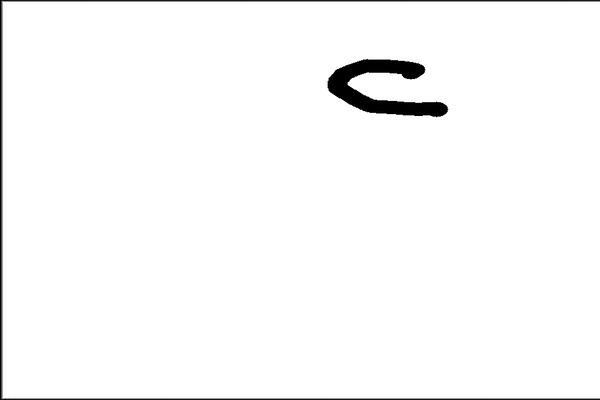C: (323, 54, 452, 126)
